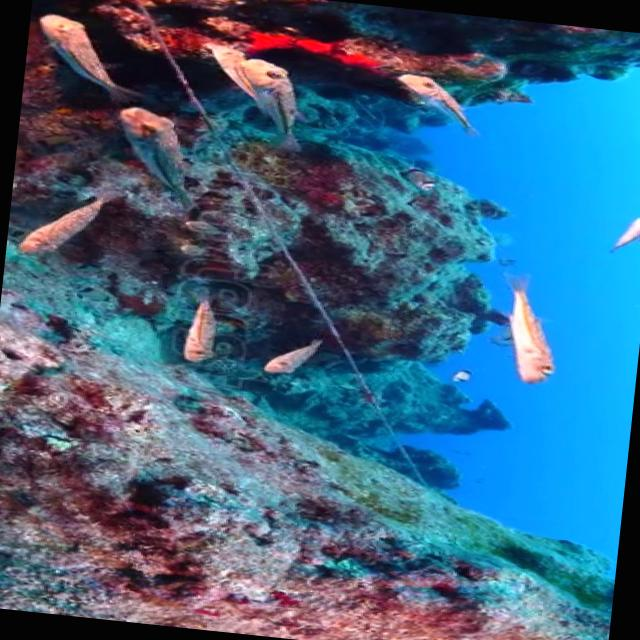Balon Baligi: (106, 106, 214, 210), (28, 12, 152, 102), (490, 278, 580, 389), (228, 54, 312, 149), (13, 187, 112, 262), (384, 66, 486, 134), (262, 332, 330, 382), (181, 296, 222, 366)
